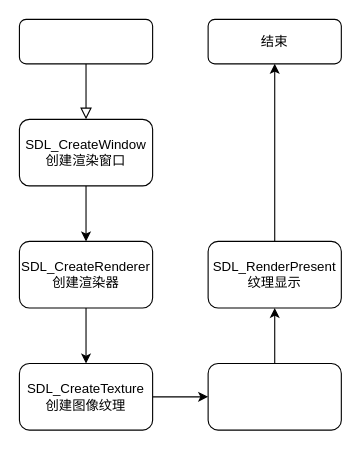
Some shapes in this 361 by 450 pixel diagram are drawn without their labels. Each missing label, with the centre of its shape:
"SDL_RenderCopy 上传纹理到GPU" goes at (274,396).
"开始" goes at (85,41).
